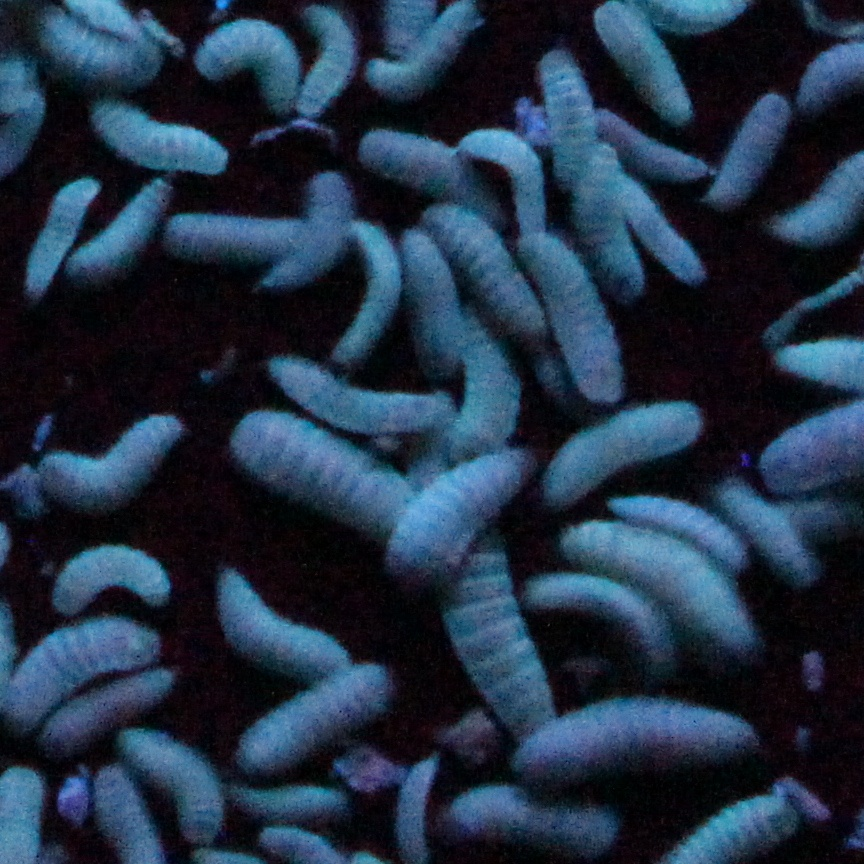larve: (566, 523, 773, 663), (226, 416, 411, 530), (518, 701, 762, 782), (519, 239, 630, 401), (11, 620, 161, 728), (543, 404, 704, 504), (238, 668, 400, 763), (523, 576, 675, 676), (214, 568, 355, 672), (35, 416, 190, 508), (90, 92, 233, 187), (121, 728, 235, 840), (595, 1, 692, 130), (68, 175, 175, 282), (611, 171, 712, 278), (355, 128, 478, 210), (195, 13, 295, 113), (257, 173, 350, 280), (19, 180, 107, 292), (610, 493, 747, 564), (399, 226, 466, 370), (722, 477, 812, 582), (47, 675, 181, 745), (709, 97, 788, 211), (49, 549, 175, 618), (472, 126, 551, 232), (539, 46, 597, 184), (303, 3, 347, 114)
